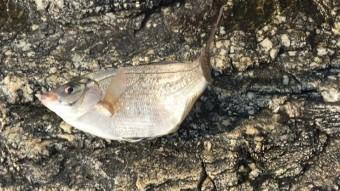fish: (37, 6, 226, 143)
